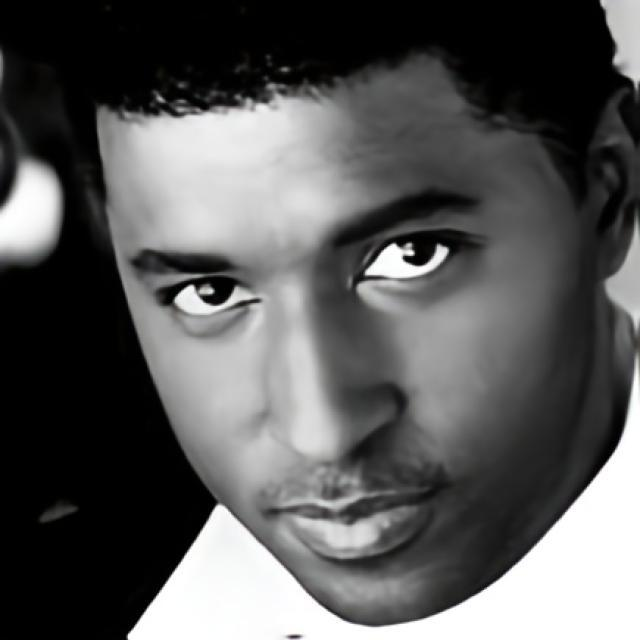neutral: (97, 46, 585, 626)
